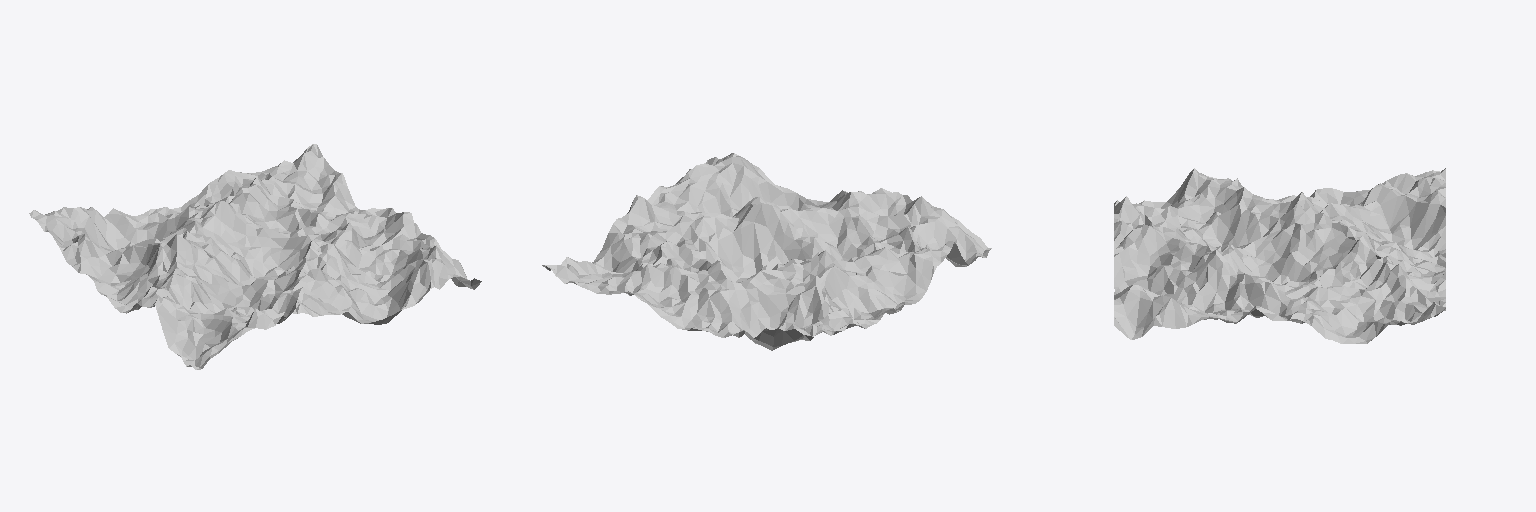
The model's file is MunteNeregulat1k.obj.
The picture shows the model from 3 angles: view 1: azimuth 30°, elevation 25°; view 2: azimuth 150°, elevation 25°; view 3: azimuth 270°, elevation 25°; orthographic projection.
Visible parts, largest first — view 1: mountains; view 2: mountains; view 3: mountains.
Boxes of the visible parts, <box> form: mountains: <box>29,144,481,369</box>; mountains: <box>542,153,991,350</box>; mountains: <box>1114,168,1445,343</box>.
Size of the model in its own units: 80.92 by 16.52 by 80.95.